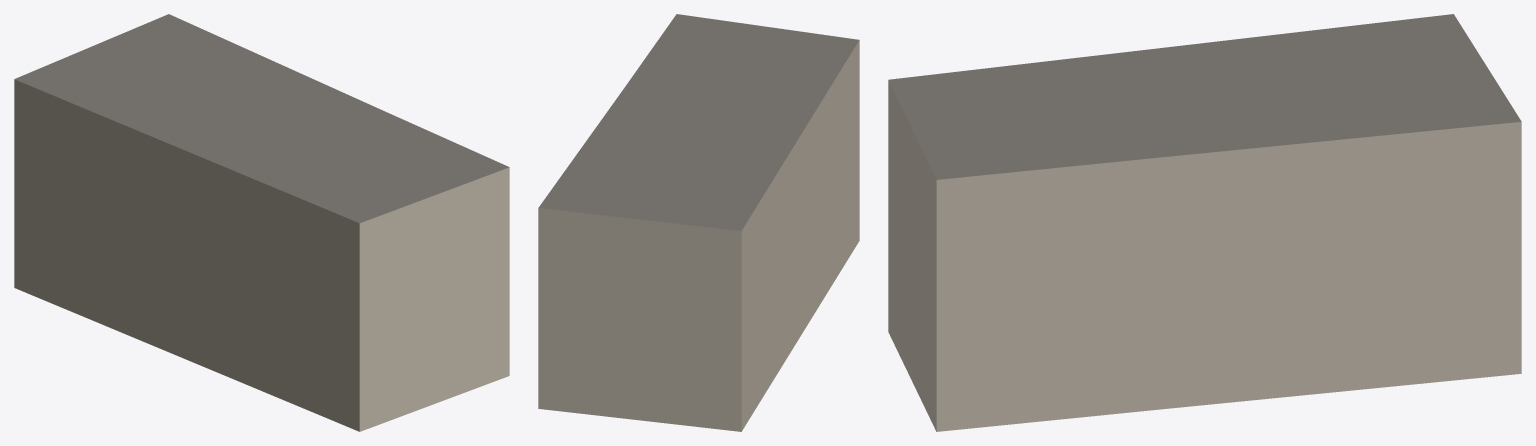
The picture shows the model from 3 angles, left to right: view 1: azimuth 30°, elevation 25°; view 2: azimuth 150°, elevation 25°; view 3: azimuth 270°, elevation 25°; orthographic projection. The views are drawn at different scales.
Visible parts, largest first — view 1: HP-w380339973; view 2: HP-w380339973; view 3: HP-w380339973.
Boxes of the visible parts, x1,y1,x2,y2 form: HP-w380339973: [14, 14, 509, 431]; HP-w380339973: [538, 14, 859, 431]; HP-w380339973: [888, 14, 1521, 431].
Size of the model in its own units: 25.42 by 18 by 41.01.
